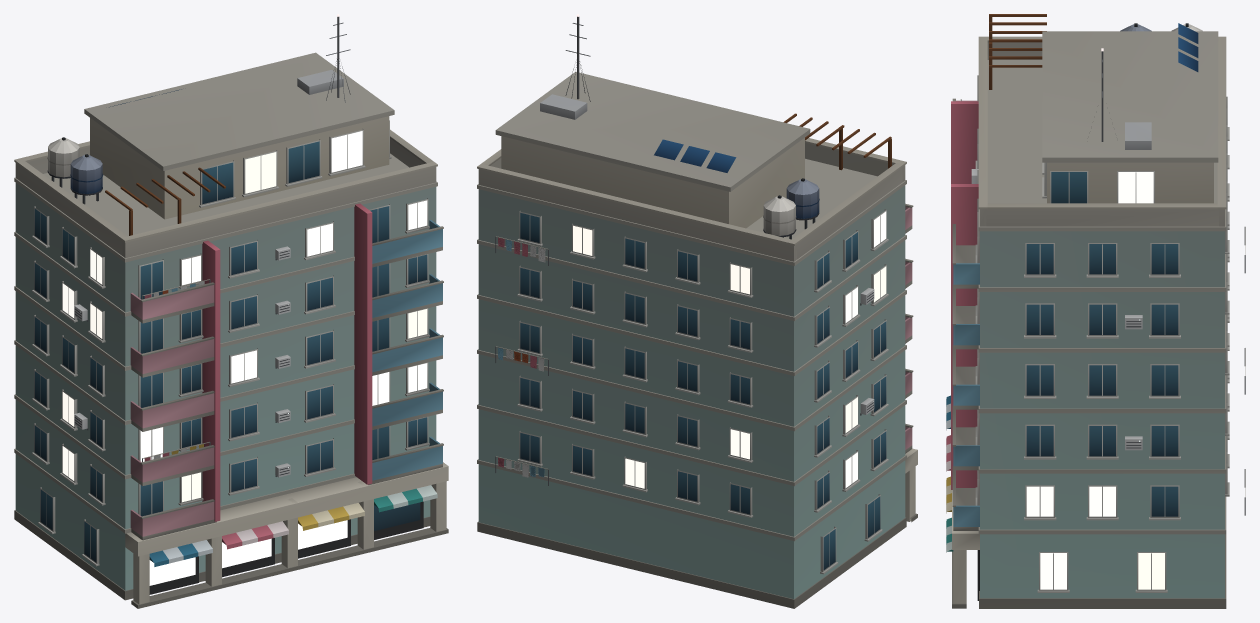
The model's file is apartamentos_b.glb.
3 renders of one model, left to right at view 1: azimuth 30°, elevation 25°; view 2: azimuth 150°, elevation 25°; view 3: azimuth 270°, elevation 25°, orthographic. The views are drawn at different scales.
Visible parts, largest first — view 1: apartamentos_b; view 2: apartamentos_b; view 3: apartamentos_b.
Boxes of the visible parts, left/top/right/bottom form: apartamentos_b: left=14, top=14, right=448, bottom=608; apartamentos_b: left=477, top=14, right=917, bottom=608; apartamentos_b: left=946, top=14, right=1245, bottom=608.
Bounding box in the file's own units: 18.75 × 26.55 × 13.43.
